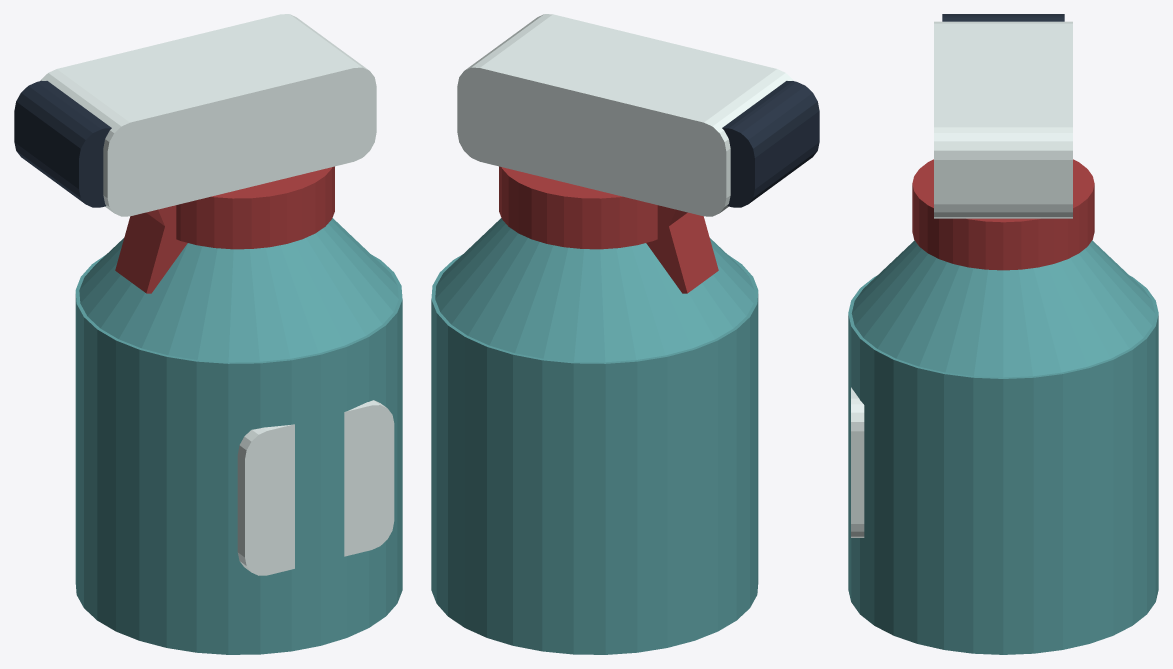
The model's file is lensbottle.glb.
The picture shows the model from 3 angles, left to right: view 1: azimuth 30°, elevation 25°; view 2: azimuth 150°, elevation 25°; view 3: azimuth 270°, elevation 25°; orthographic projection. The views are drawn at different scales.
Parts seen in each view (by area): view 1: bottle, sprayer, shoulder, label, collar, nozzle, trigger; view 2: bottle, sprayer, shoulder, collar, nozzle, trigger; view 3: bottle, shoulder, sprayer, collar, label, nozzle.
Boxes of the visible parts, x1,y1,x2,y2 form: bottle: [75, 255, 402, 654]; sprayer: [40, 14, 376, 216]; shoulder: [79, 218, 398, 362]; label: [237, 400, 394, 575]; collar: [176, 166, 334, 249]; nozzle: [14, 81, 111, 207]; trigger: [115, 205, 187, 293]; bottle: [431, 255, 758, 654]; sprayer: [457, 14, 793, 216]; shoulder: [435, 218, 754, 362]; collar: [499, 166, 657, 249]; nozzle: [722, 81, 819, 207]; trigger: [646, 205, 718, 293]; bottle: [848, 276, 1158, 654]; shoulder: [851, 240, 1155, 377]; sprayer: [934, 21, 1072, 218]; collar: [912, 159, 1094, 270]; label: [851, 387, 864, 537]; nozzle: [942, 14, 1064, 21].
Bounding box in the file's own units: 0.895 × 1.34 × 0.76.
